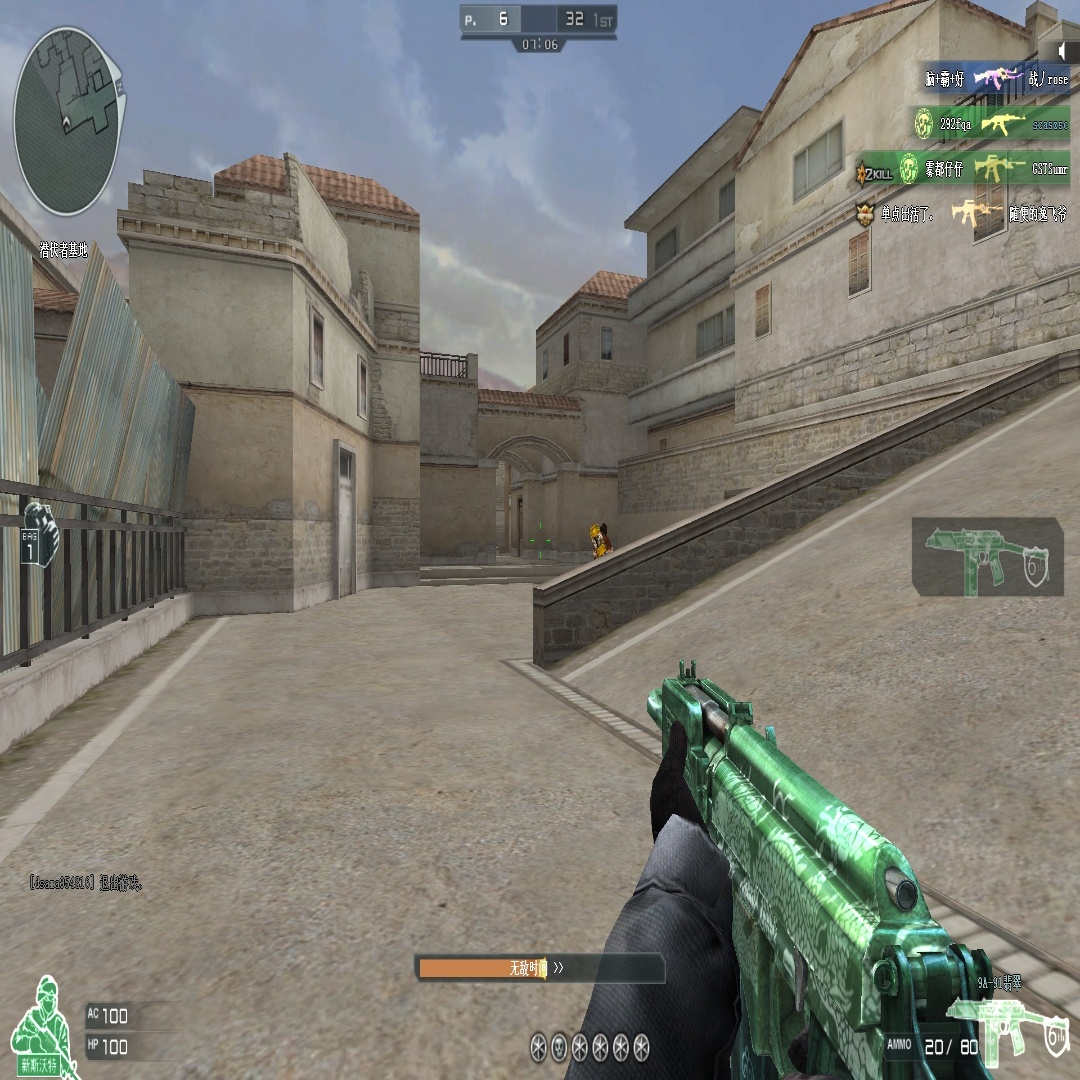p: (591, 519, 611, 559)
